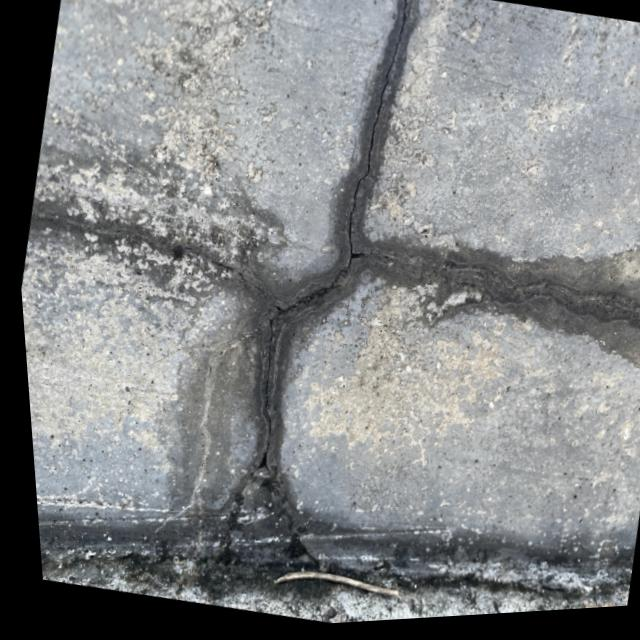Crack: (162, 0, 458, 588), (373, 189, 640, 375), (11, 171, 253, 348)
